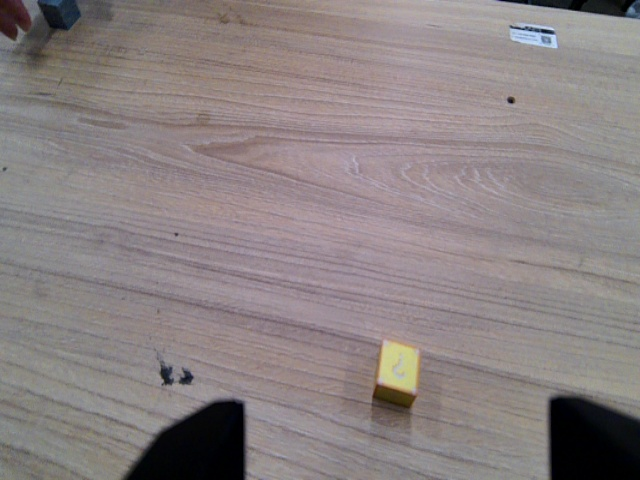lucky: (372, 334, 426, 412)
